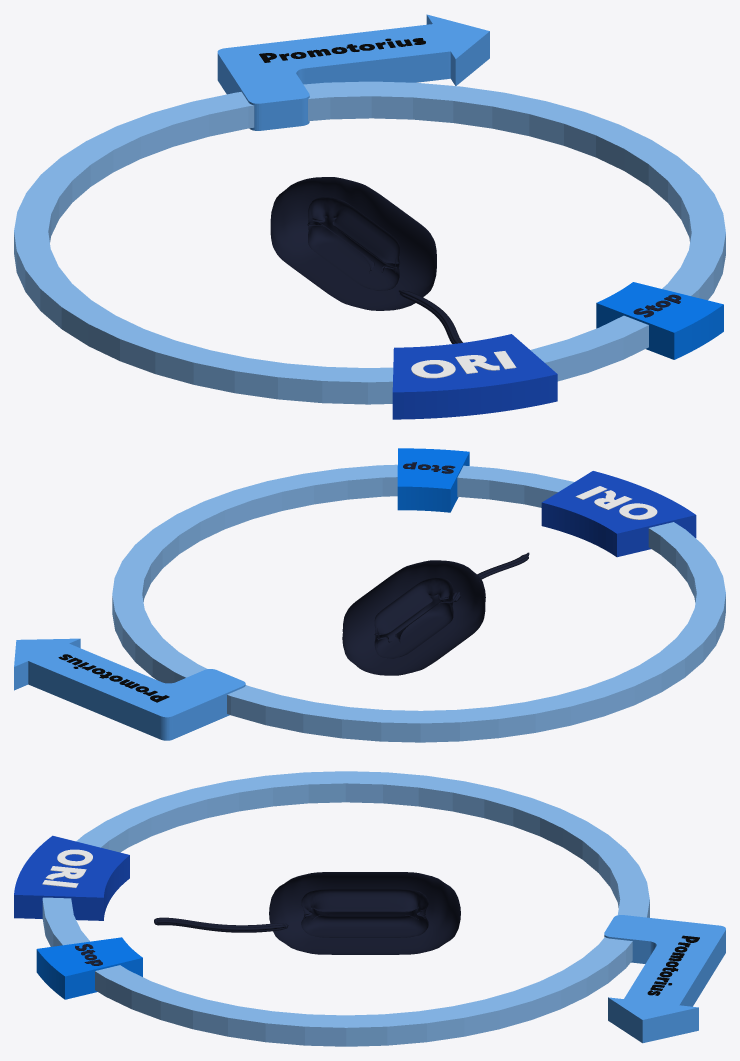
Rendered from circuit.glb.
The picture shows the model from 3 angles, top to bottom: view 1: azimuth 30°, elevation 25°; view 2: azimuth 150°, elevation 25°; view 3: azimuth 270°, elevation 25°; orthographic projection. The views are drawn at different scales.
Visible parts, largest first — view 1: prom_Curve.118, Curve.002_Curve.001; view 2: prom_Curve.118, Curve.002_Curve.001; view 3: prom_Curve.118, Curve.002_Curve.001.
Part boxes in pixels (x1,y1,x2,y2): prom_Curve.118: (14,14,725,419); Curve.002_Curve.001: (270,177,462,343); prom_Curve.118: (14,448,725,742); Curve.002_Curve.001: (342,552,529,675); prom_Curve.118: (14,771,725,1046); Curve.002_Curve.001: (154,872,460,954).
Size of what is drawn, in the model's own units: 0.1363 by 0.0154 by 0.1597.
